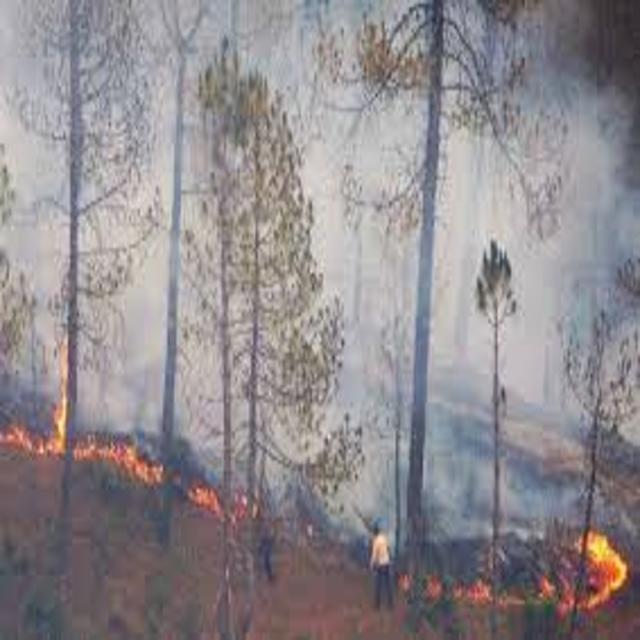Fire: (2, 340, 161, 477), (396, 558, 558, 618), (557, 525, 640, 615), (174, 466, 259, 527)
Smoke: (211, 0, 472, 144), (0, 0, 158, 194), (188, 161, 412, 296), (536, 0, 640, 214), (9, 215, 170, 332), (311, 414, 402, 534), (178, 348, 256, 456), (428, 448, 506, 541)
